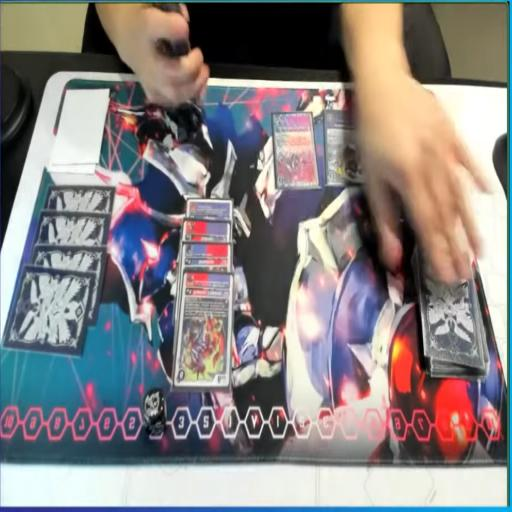card: (171, 272, 237, 394), (272, 111, 320, 189), (326, 109, 370, 186), (180, 244, 234, 278), (184, 218, 233, 248), (185, 199, 234, 223)
